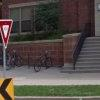stairs: (67, 38, 100, 74)
